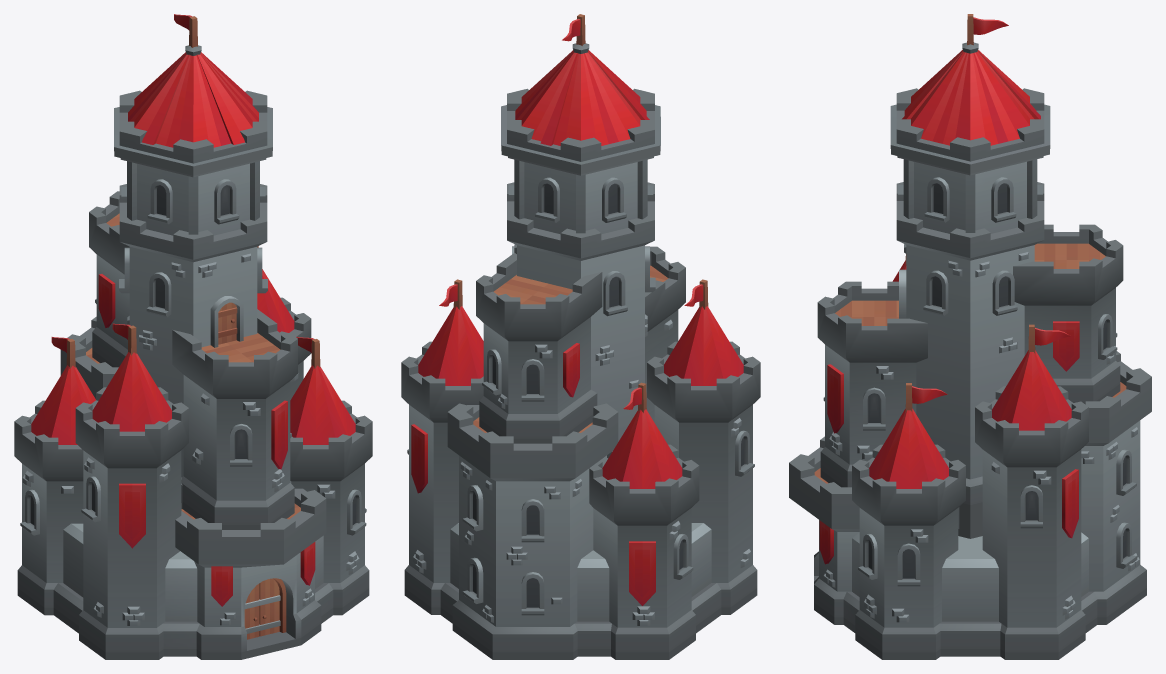
File: kk_castle_v1.glb
3 renders of one model, left to right at view 1: azimuth 30°, elevation 25°; view 2: azimuth 150°, elevation 25°; view 3: azimuth 270°, elevation 25°, orthographic.
Parts seen in each view (by area): view 1: building_castle_red; view 2: building_castle_red; view 3: building_castle_red.
Part boxes in pixels (x1,y1,x2,y2): building_castle_red: (14,14,372,659); building_castle_red: (401,14,760,659); building_castle_red: (789,14,1151,659).
Bounding box in the file's own units: 1.98 × 3.98 × 2.26.
1 material, 1 textured.
